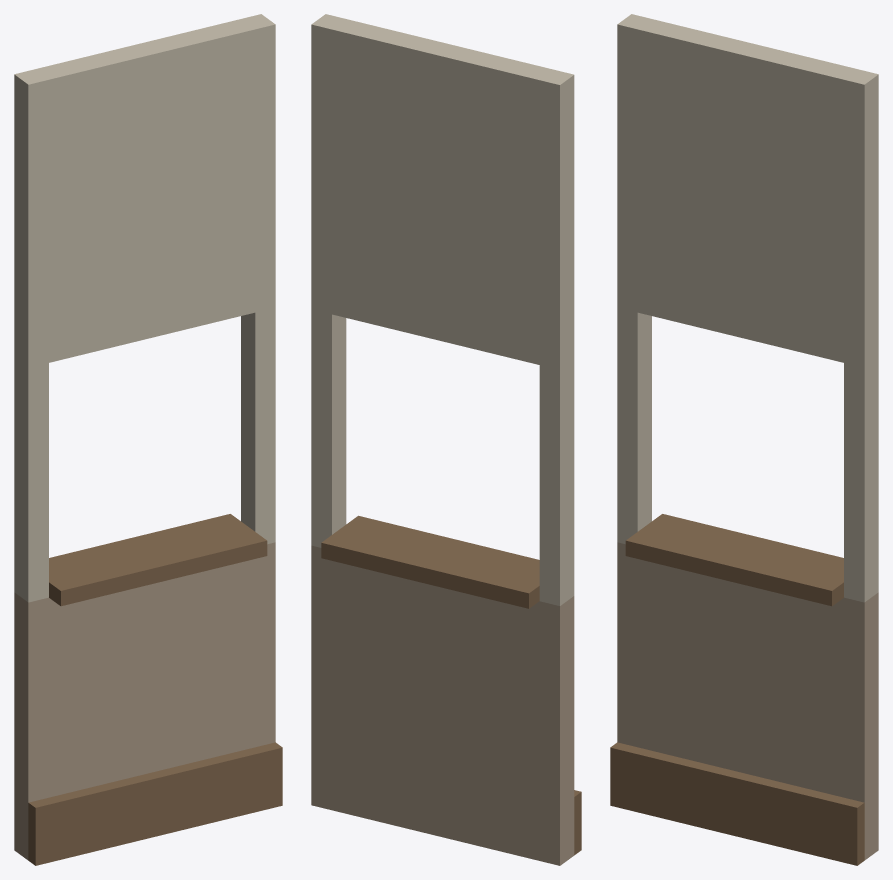
The model's file is Mesh_WallBaseboard2Colors_A2.fbx.
3 renders of one model, left to right at view 1: azimuth 30°, elevation 25°; view 2: azimuth 150°, elevation 25°; view 3: azimuth 330°, elevation 25°, orthographic.
Parts seen in each view (by area): view 1: Mesh_WallBaseboard2Colors_A2; view 2: Mesh_WallBaseboard2Colors_A2; view 3: Mesh_WallBaseboard2Colors_A2.
Boxes of the visible parts, x1,y1,x2,y2 form: Mesh_WallBaseboard2Colors_A2: (14, 14, 282, 865); Mesh_WallBaseboard2Colors_A2: (311, 14, 581, 865); Mesh_WallBaseboard2Colors_A2: (610, 14, 878, 865).
Bounding box in the file's own units: 1 × 3 × 0.2574.
